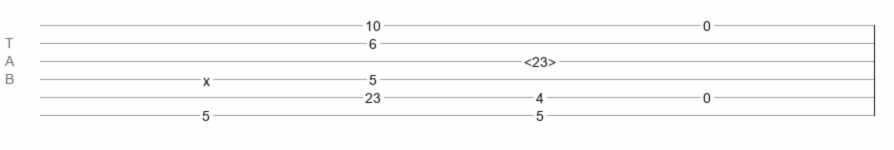0: (703, 18, 711, 28), (703, 90, 711, 100)
10: (365, 18, 381, 28)
23: (365, 90, 381, 100)
4: (536, 90, 544, 100)
5: (202, 108, 210, 118), (369, 72, 377, 82), (536, 108, 544, 118)
6: (369, 36, 377, 46)
harmonic: (524, 54, 556, 64)
x: (203, 73, 210, 81)
